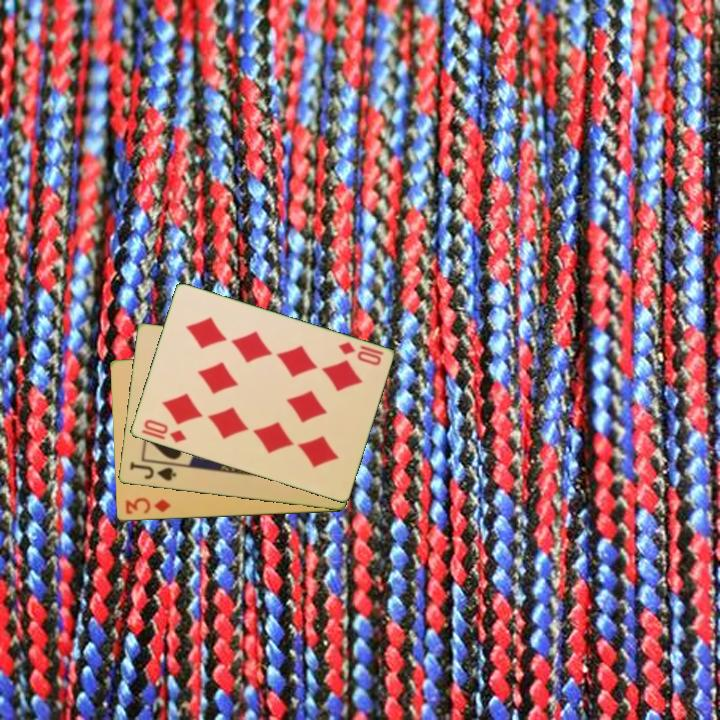10d: (334, 338, 386, 369), (140, 416, 189, 446)
3d: (121, 494, 173, 517)
Js: (126, 459, 179, 484)
